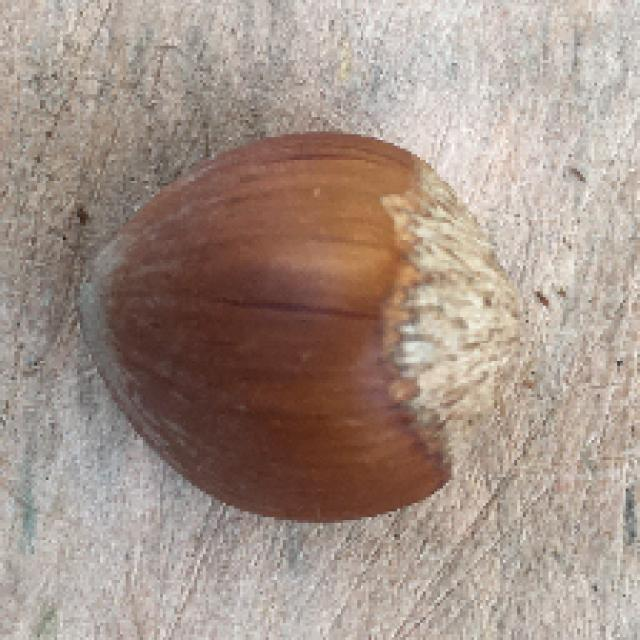qualityHazelnut: (76, 128, 534, 541)
